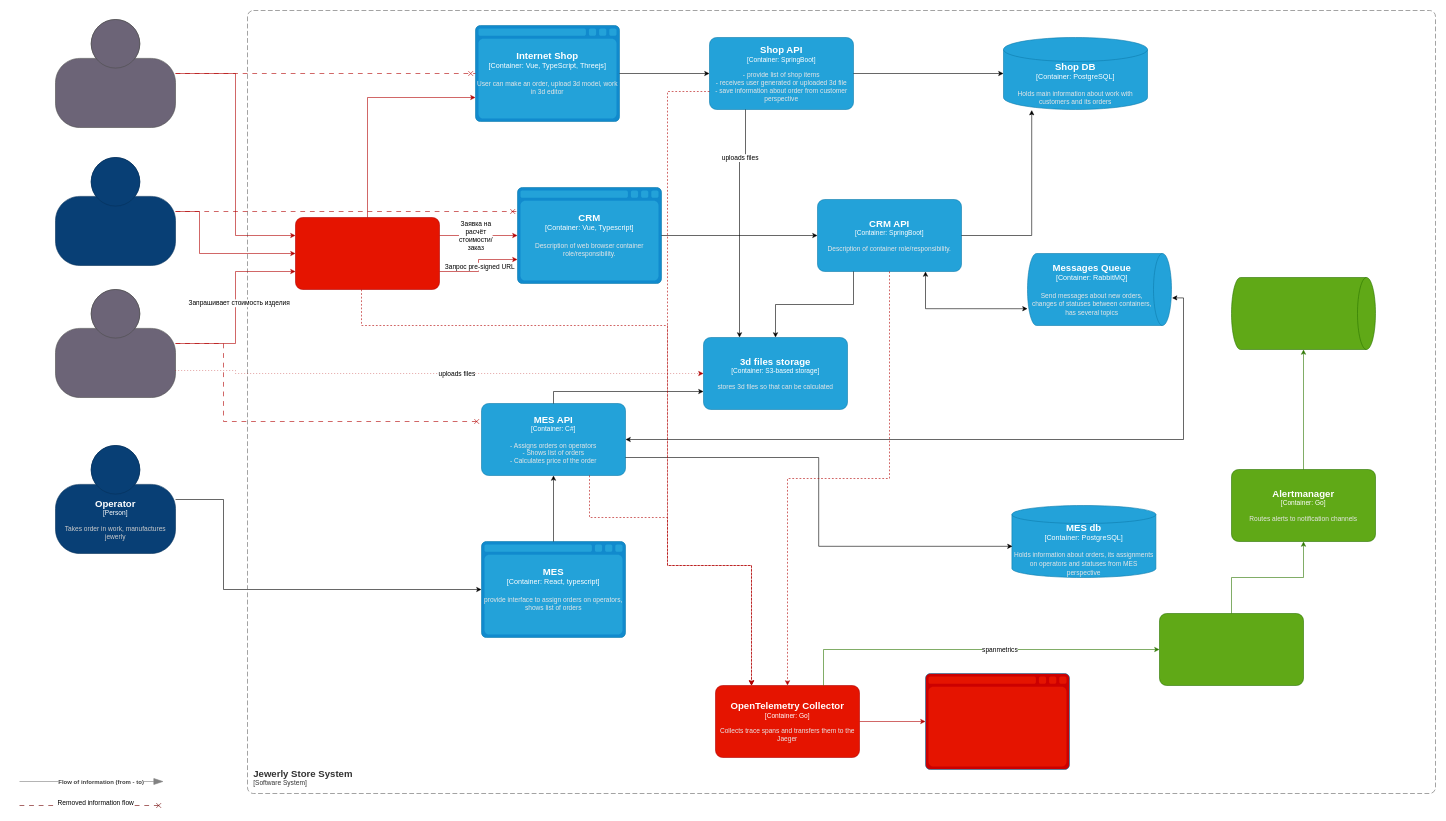
Image size: 1446x821. Some labels were removed from this diagram. Here are the shapes that lost their labels. From the top down, the centre of each, then its label:
the point at 115,73: Customer [Person] Description of external person.
the point at 115,211: Seller [Person] Operates with order, confirms manufacturing for the user
the point at 367,253: API Gateway [Container: Kong]
the point at 1303,313: Notification channel [Container: Email/Telegram] Notifies developer/support team
the point at 115,343: API user [Person] Description of external person.
the point at 1231,649: Prometheus [Container: Go] Stores metrics including derived from trace spans
the point at 997,721: Jaeger [Container: Go, React] Collects tracing data, shows request traces
